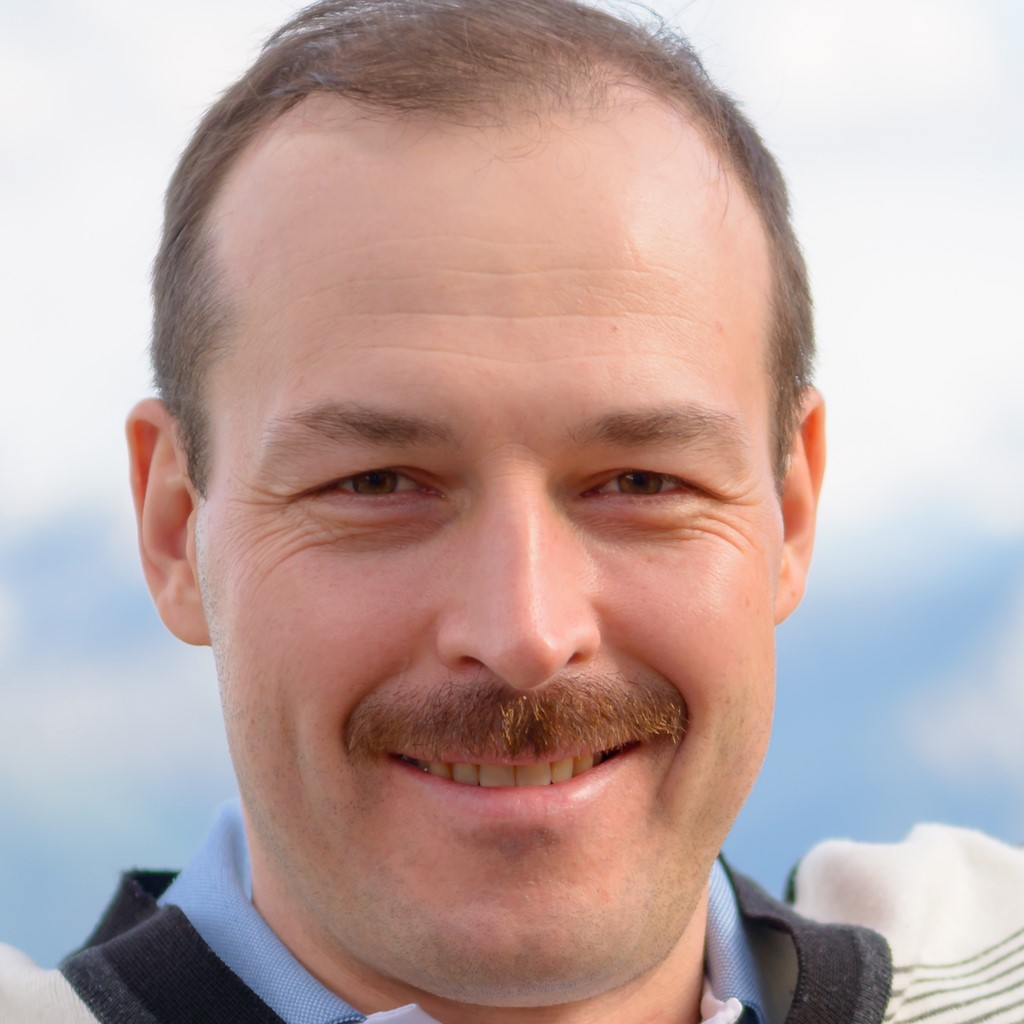sin_mascara: (117, 18, 837, 1016)
